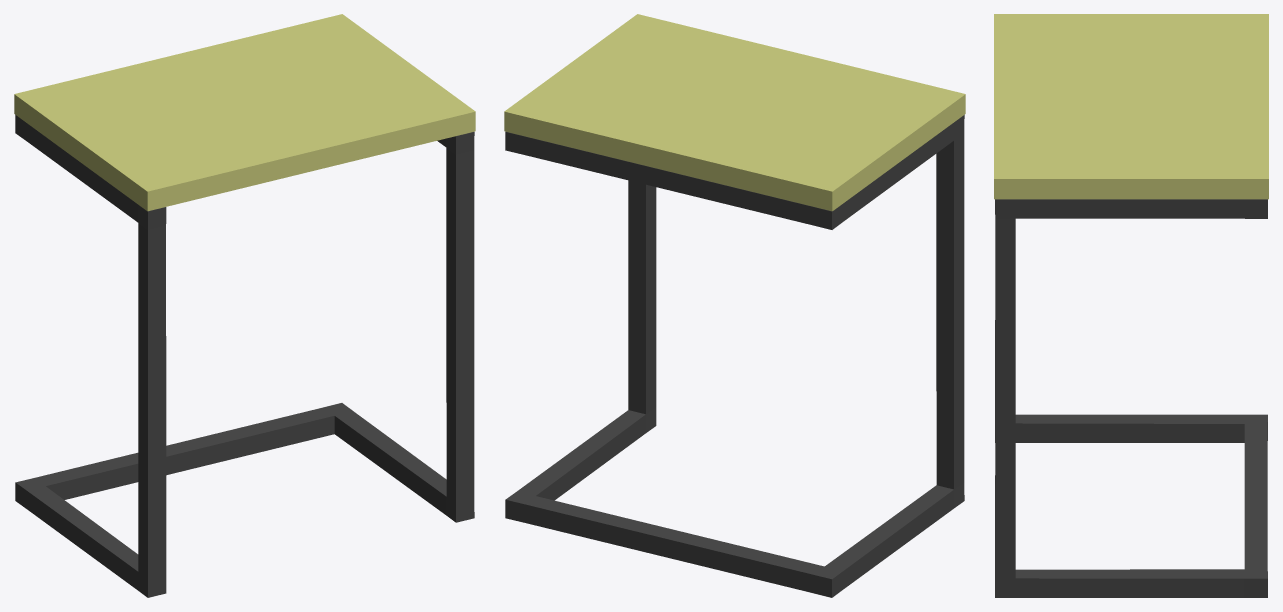
The model's file is endtable.fbx.
3 renders of one model, left to right at view 1: azimuth 30°, elevation 25°; view 2: azimuth 150°, elevation 25°; view 3: azimuth 270°, elevation 25°, orthographic. The views are drawn at different scales.
Visible parts, largest first — view 1: Cube.014; view 2: Cube.014; view 3: Cube.014.
Part boxes in pixels (x1,y1,x2,y2): Cube.014: [14, 14, 475, 597]; Cube.014: [504, 14, 965, 597]; Cube.014: [994, 14, 1268, 597].
Size of the model in its own units: 388 by 459 by 273.
